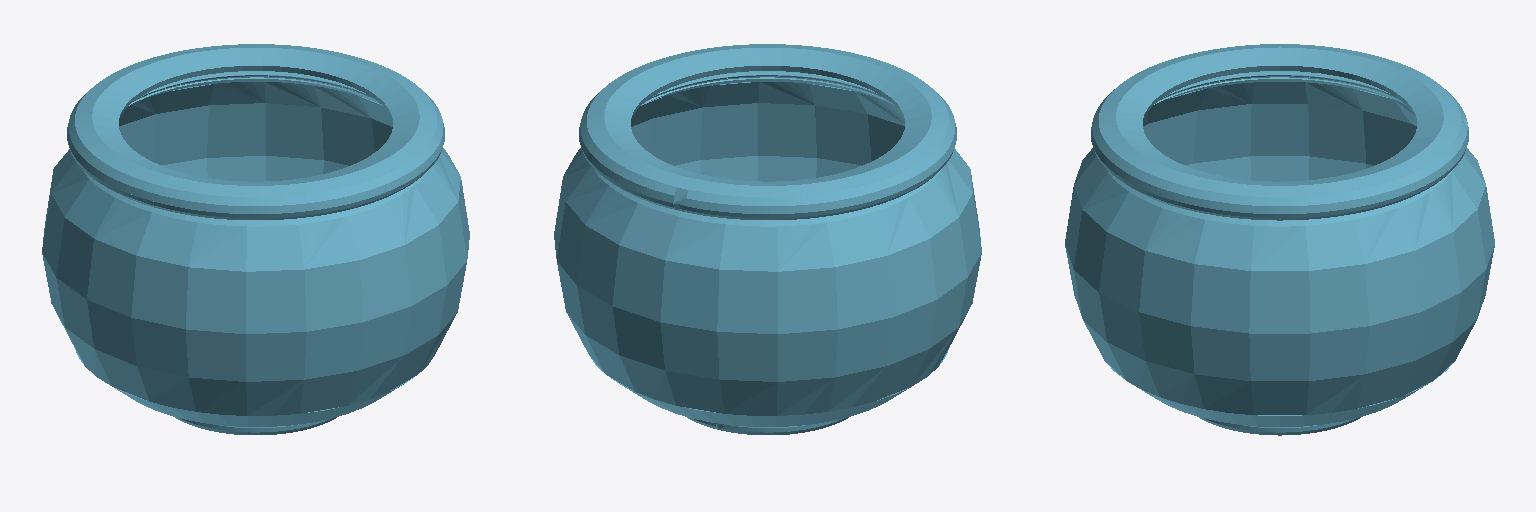
Rendered from SquidFishSketchfab.obj.
3 views of the same model, side by side, from view 1: azimuth 30°, elevation 25°; view 2: azimuth 150°, elevation 25°; view 3: azimuth 270°, elevation 25° (orthographic).
Parts seen in each view (by area): view 1: FishBowl:revolvedSurface1; view 2: FishBowl:revolvedSurface1; view 3: FishBowl:revolvedSurface1.
Part boxes in pixels (bbox=[...]): FishBowl:revolvedSurface1: bbox=[42, 44, 469, 434]; FishBowl:revolvedSurface1: bbox=[554, 44, 981, 434]; FishBowl:revolvedSurface1: bbox=[1065, 44, 1494, 435].
Bounding box in the file's own units: 24.43 × 17.62 × 24.69.